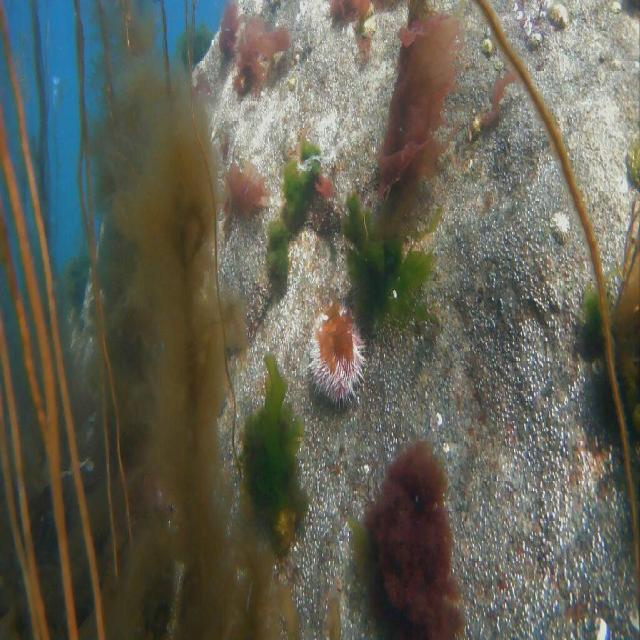Deniz Kestanesi: (306, 307, 368, 409)
